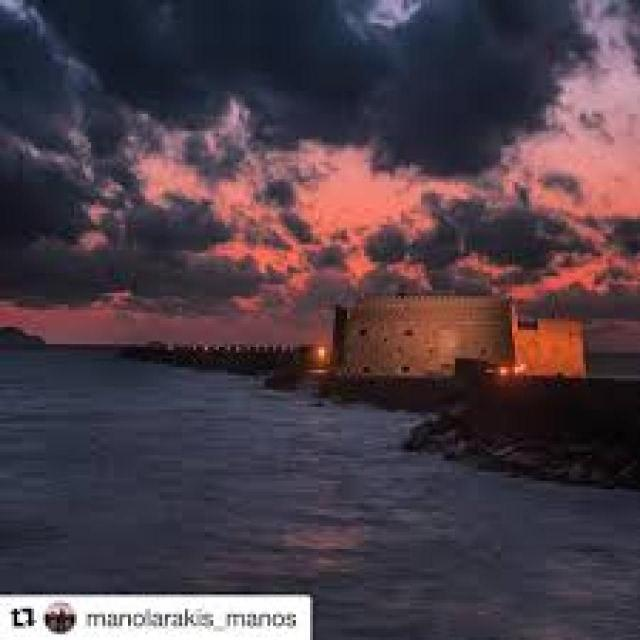Kules: (336, 284, 590, 392)
